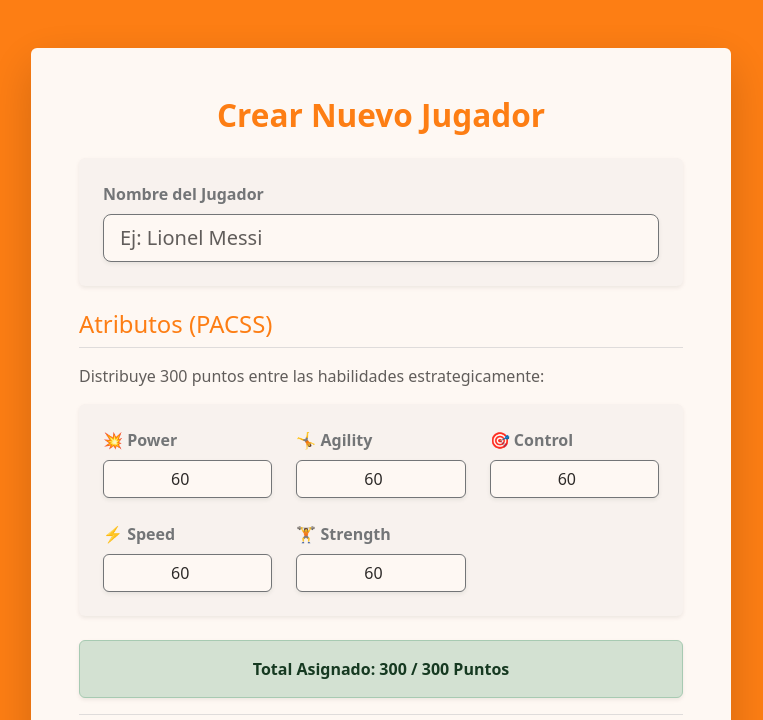
Test: CrearJugador Logic Container › muestra error de validación al intentar enviar si un atributo es menor a 20
The image size is (763, 720).
Step 1. Replace the text in the number field labelled "🤸 agility" with "10" → (381, 478), box [296,460,466,498]
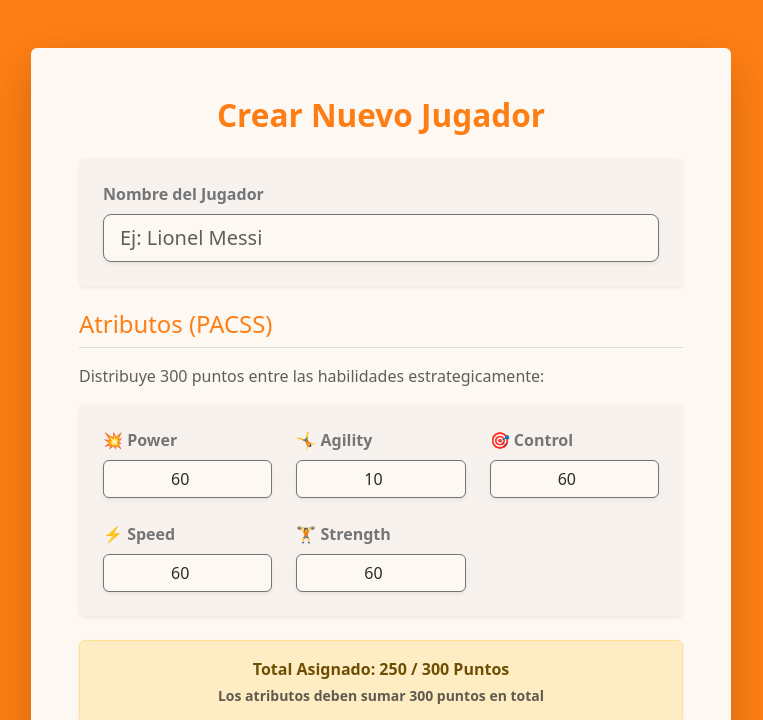
Step 2. Replace the text in the number field labelled "💥 power" with "85" → (188, 478), box [103,460,272,498]
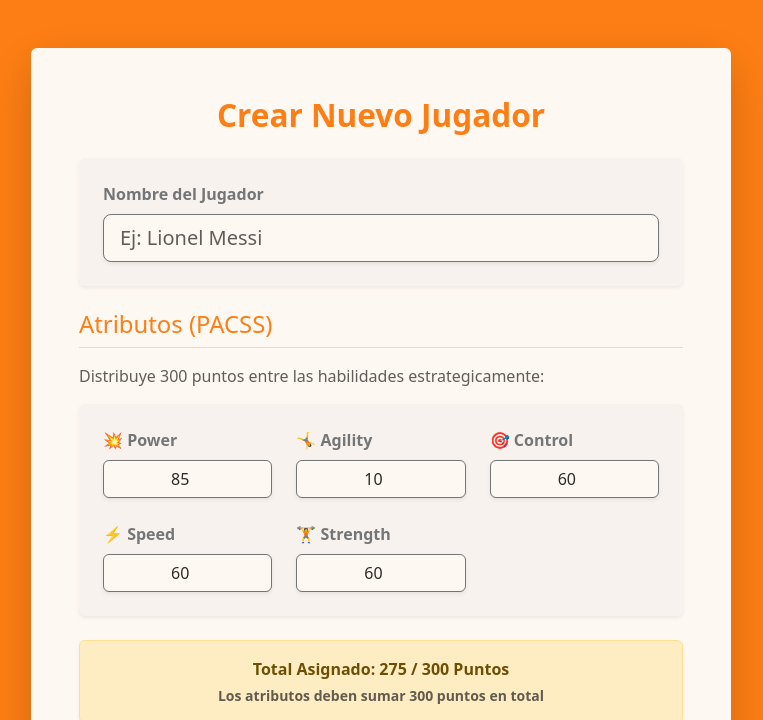
Step 3. Replace the text in the number field labelled "⚡ speed" with "85" → (188, 572), box [103,554,272,592]
(page scrolled)
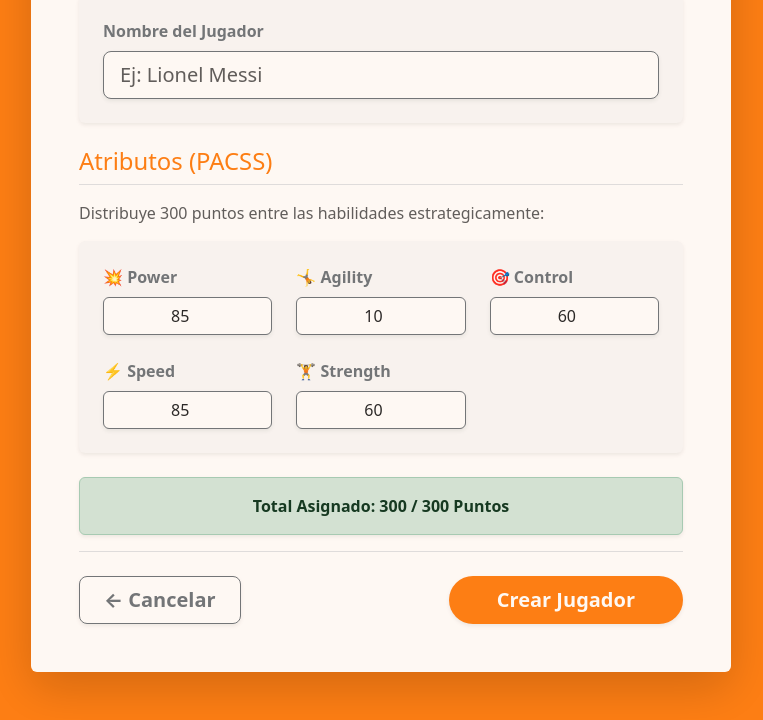
Check: the button "Crear Jugador" is enabled
Step 4. Click the button "Crear Jugador" → (566, 600), box [449,576,683,624]
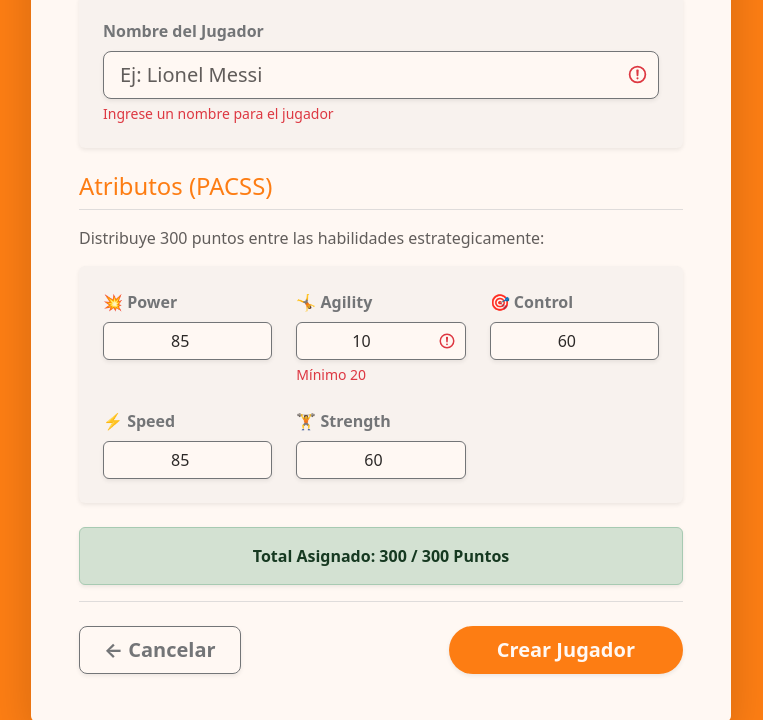
Check: the text "Mínimo 20" is shown, box [296,364,366,384]
